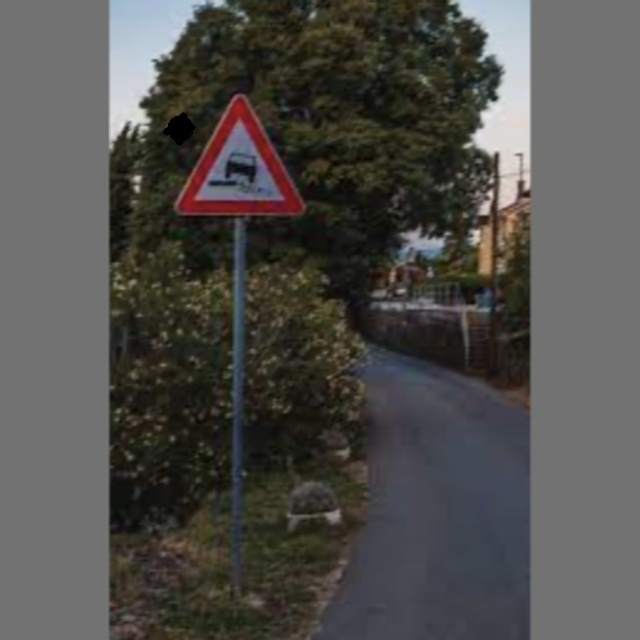Loose_Gravel: (176, 93, 303, 222)
